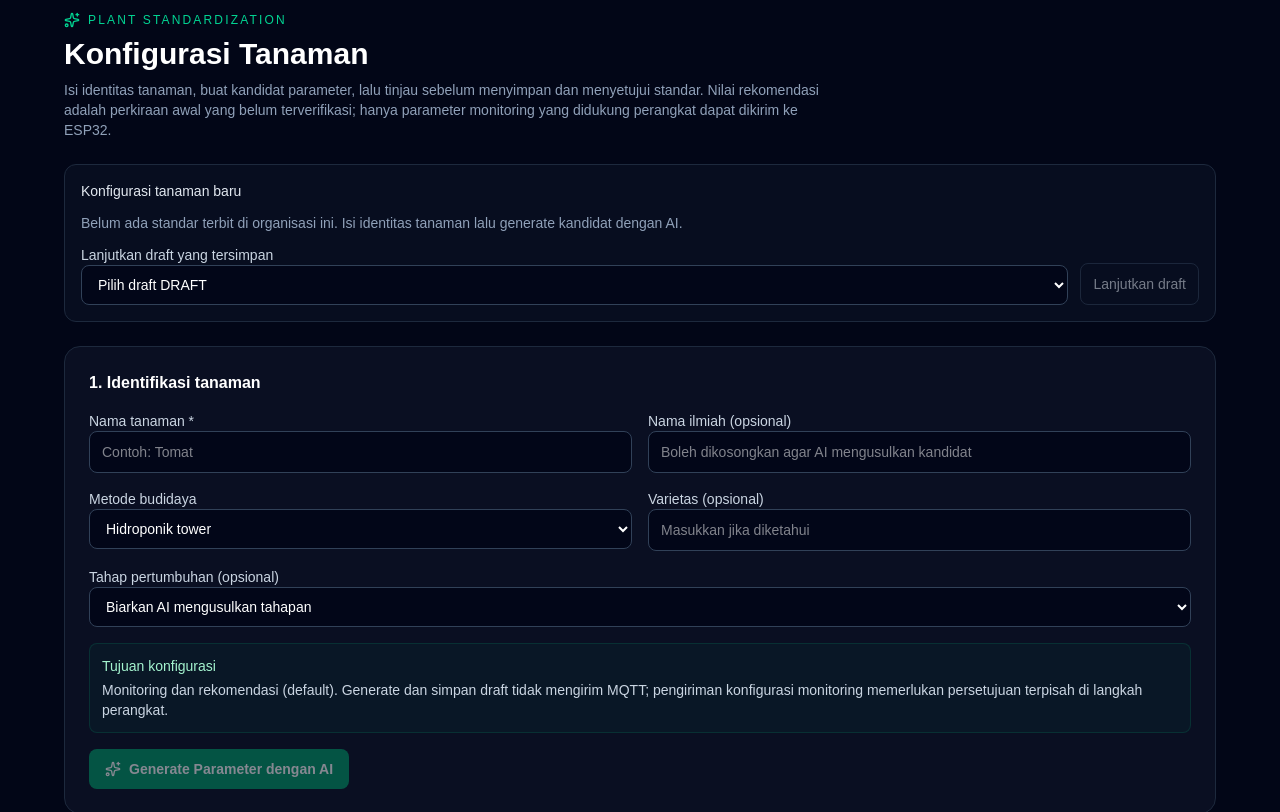
Test case: AI Plant Setup page › restores a saved catalog draft and growth stages for continued review
The image size is (1280, 812).
Select "Tomat · Solanum lycopersicum · v2" in the dropdown labelled "Lanjutkan draft yang tersimpan": (575, 285) [81,265,1068,305]
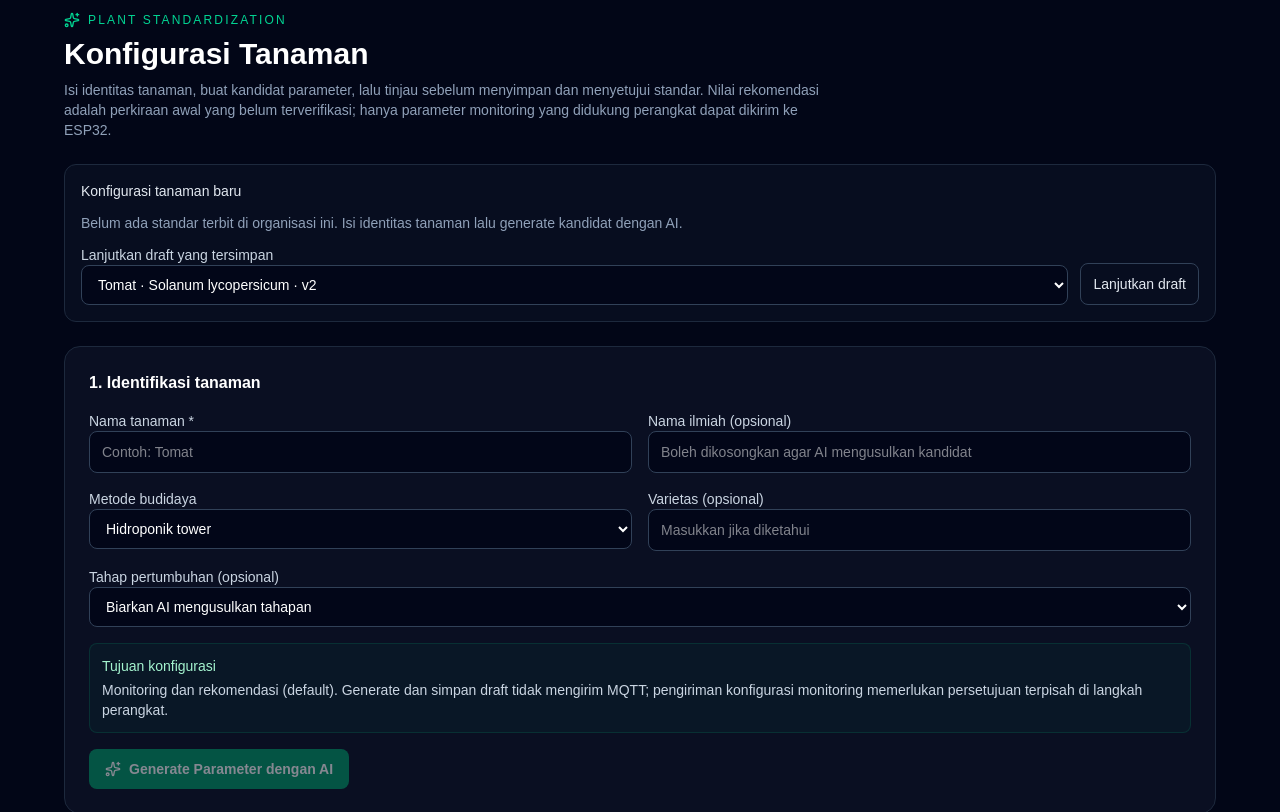
Click the button "Lanjutkan draft": (1140, 284) [1080,263,1199,305]
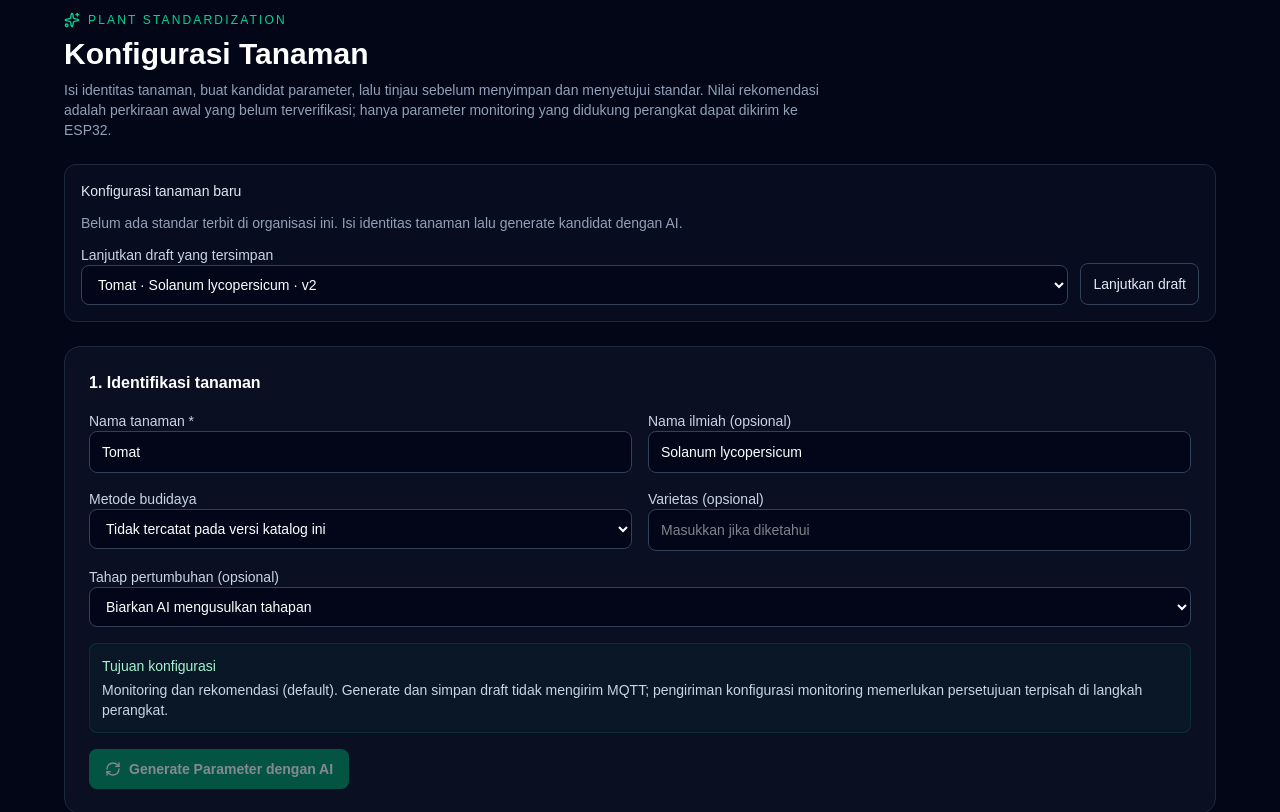
Check: the dropdown labelled "Metode budidaya" shows "Tidak tercatat pada versi katalog ini", box [89,509,632,549]
